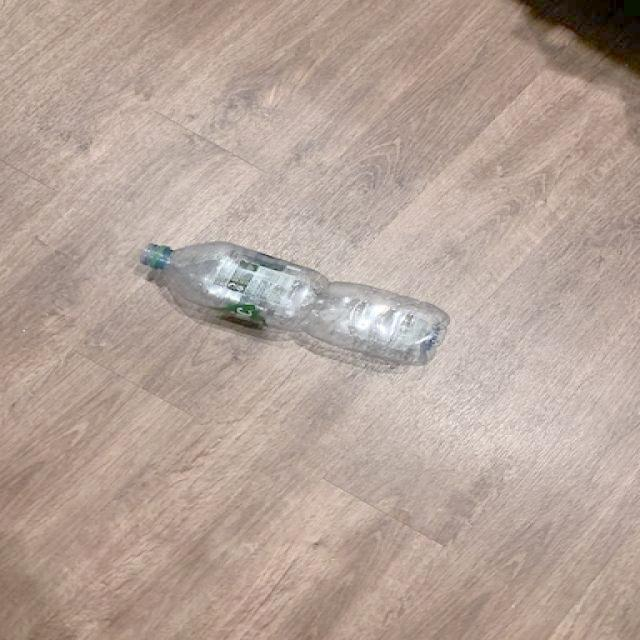bottle: (140, 240, 450, 366)
